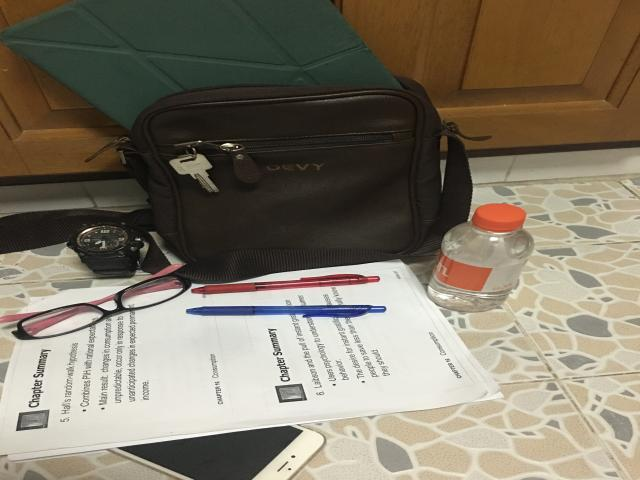Glasses: (0, 263, 190, 339)
Mobile phone: (110, 426, 325, 480)
Pen: (192, 274, 380, 294), (187, 305, 385, 317)
Watch: (67, 222, 143, 276)
bottle: (428, 203, 533, 312)
paper: (0, 261, 502, 460)
